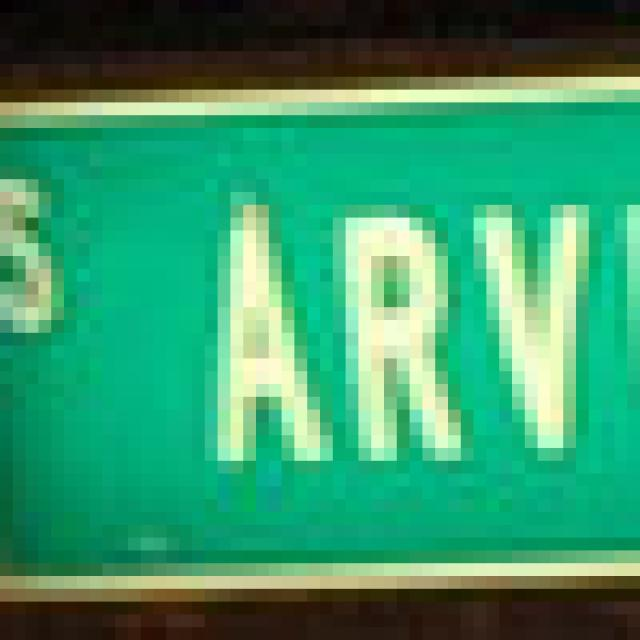no_fire: (0, 102, 640, 588)
